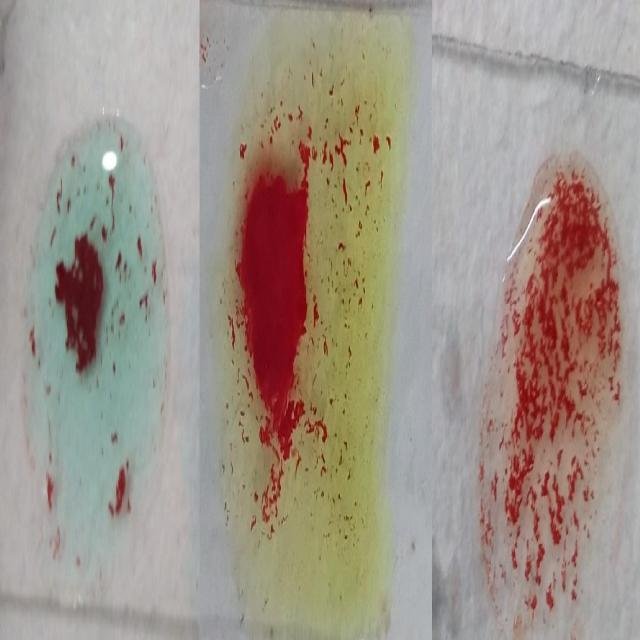A: (23, 125, 166, 569)
B: (220, 42, 393, 580)
D: (482, 154, 627, 618)
